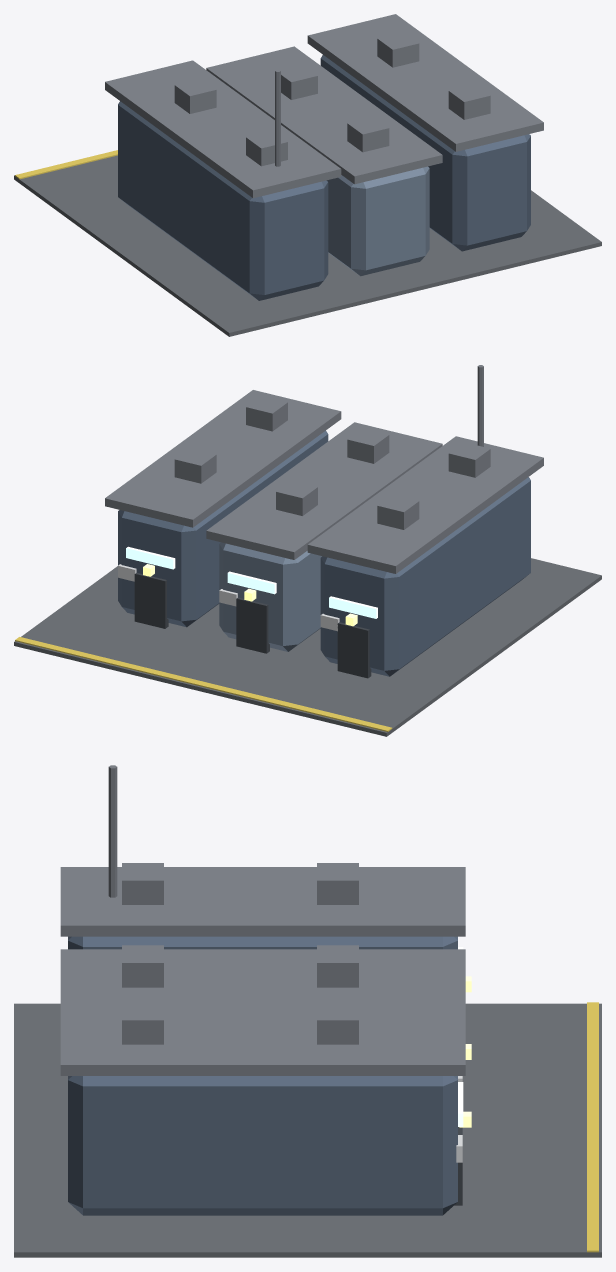
Rendered from zone_low_4.glb.
The picture shows the model from 3 angles, top to bottom: view 1: azimuth 30°, elevation 25°; view 2: azimuth 150°, elevation 25°; view 3: azimuth 270°, elevation 25°; orthographic projection. The views are drawn at different scales.
Parts seen in each view (by area): view 1: zone_low_4, detail; view 2: zone_low_4, detail; view 3: zone_low_4, detail.
Part boxes in pixels (<box>): zone_low_4: <box>14,14,601,336</box>; detail: <box>15,32,490,179</box>; zone_low_4: <box>14,390,601,736</box>; detail: <box>15,365,490,731</box>; zone_low_4: <box>14,867,601,1257</box>; detail: <box>108,765,598,1252</box>.
Size of the model in its own units: 19.6 by 11 by 19.6.
